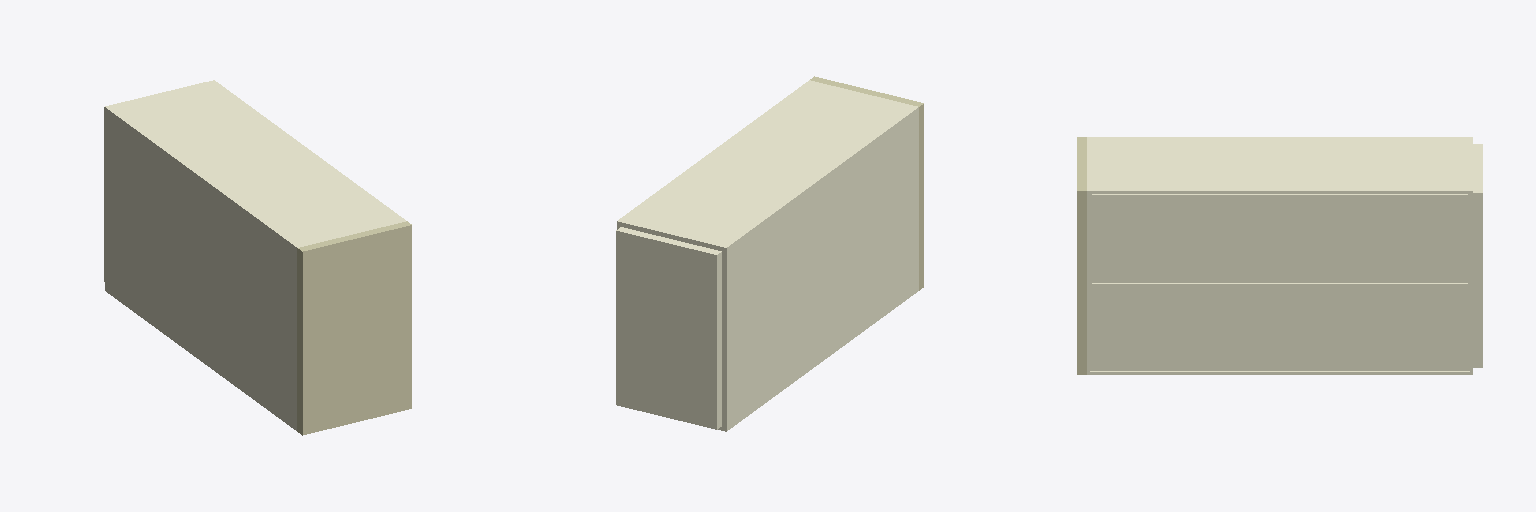
File: BigCabinet.obj
The picture shows the model from 3 angles: view 1: azimuth 30°, elevation 25°; view 2: azimuth 150°, elevation 25°; view 3: azimuth 270°, elevation 25°; orthographic projection.
Parts seen in each view (by area): view 1: mesh7, mesh6, mesh35, mesh33, mesh32; view 2: mesh7, mesh6, mesh30, mesh5, mesh33, mesh28, mesh32; view 3: mesh24, mesh19, mesh6, mesh9, mesh14, mesh31, mesh26, mesh32.
Part boxes in pixels (x1,y1,x2,y2): mesh7: (105, 107, 296, 430); mesh6: (106, 80, 405, 247); mesh35: (303, 225, 411, 434); mesh33: (297, 248, 302, 435); mesh32: (298, 221, 411, 251); mesh7: (727, 107, 918, 430); mesh6: (618, 80, 917, 247); mesh30: (616, 231, 716, 429); mesh5: (617, 221, 726, 431); mesh33: (919, 104, 923, 290); mesh28: (717, 252, 721, 429); mesh32: (810, 76, 923, 106); mesh24: (1092, 195, 1467, 281); mesh19: (1092, 284, 1467, 369); mesh6: (1087, 137, 1472, 190); mesh9: (1087, 191, 1472, 374); mesh14: (1090, 193, 1469, 370); mesh31: (1077, 191, 1086, 374); mesh26: (1473, 193, 1482, 367); mesh32: (1077, 137, 1086, 190).
Size of the model in its own units: 0.5 by 0.8 by 1.6.